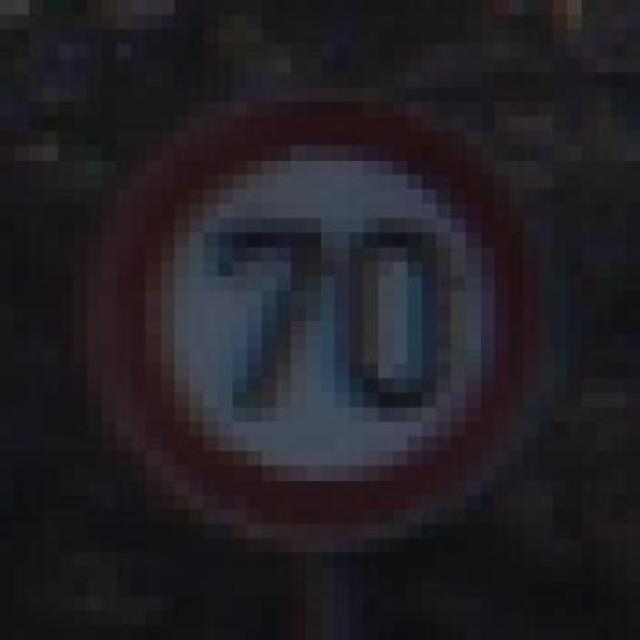forb_speed_over_70: (119, 101, 538, 533)
